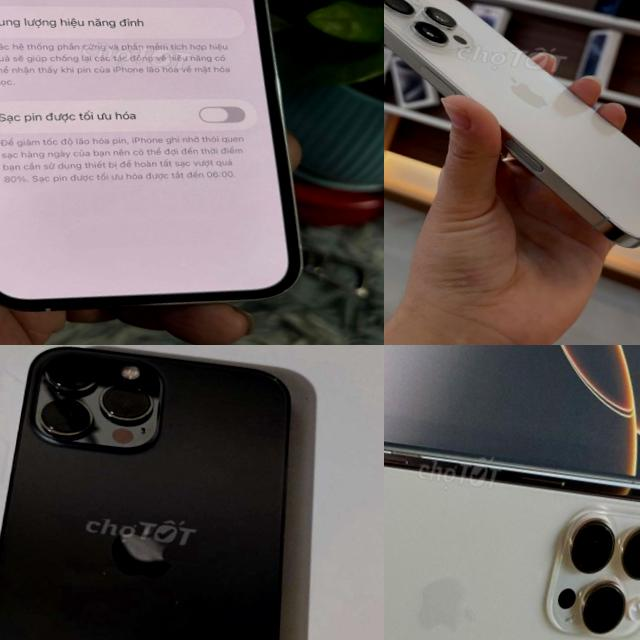gen_12_13: (0, 0, 363, 345), (0, 345, 333, 640)
gen_16: (384, 0, 640, 247), (384, 424, 640, 640)
